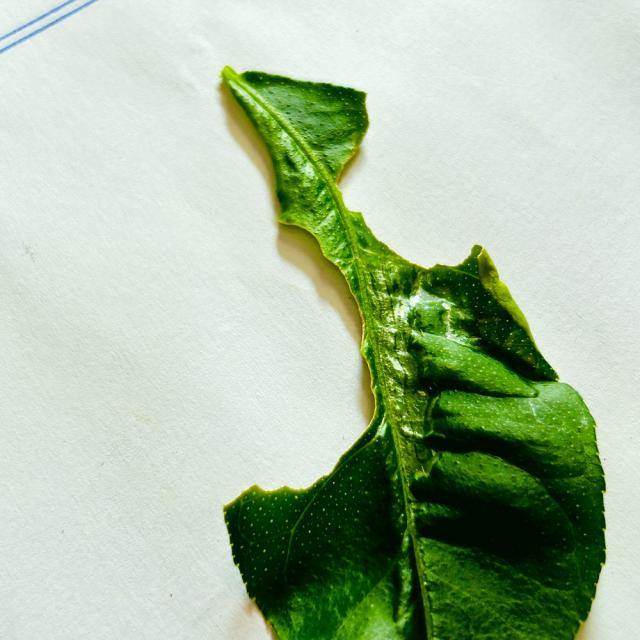Deficiency Leaf: (224, 91, 371, 505), (339, 125, 480, 268)
Lemon: (222, 68, 605, 639)
